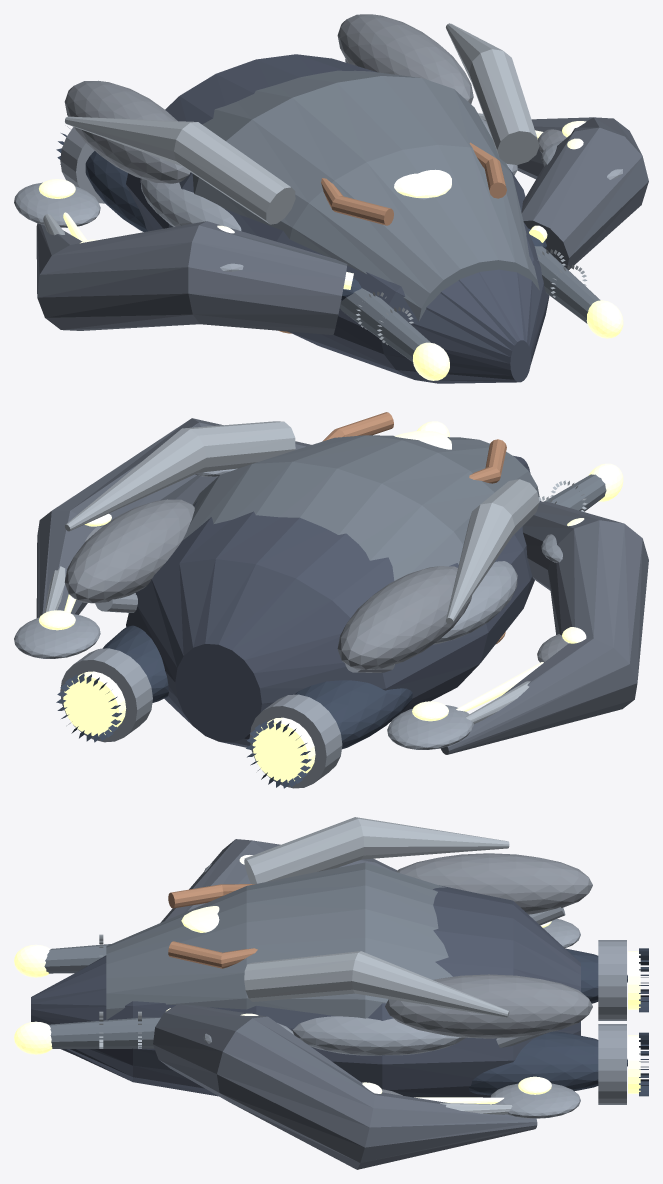
The model's file is npc_mordon.glb.
3 views of the same model, one above another, from view 1: azimuth 30°, elevation 25°; view 2: azimuth 150°, elevation 25°; view 3: azimuth 270°, elevation 25° (orthographic). The views are drawn at different scales.
Parts seen in each view (by area): view 1: upper_armor_scar, armored_scythe_-1, keel_pressure_hull, armored_scythe_1, kharon_battle_bridge_-1, kharon_reinforced_nacelle_1, kharon_battle_bridge_1, kharon_reinforced_nacelle_-1, long_plasma_cannon_-1, heavy_shield_pad_-1, scythe_plate_-1_2, engine_armor_-1 (+8 smaller); view 2: keel_pressure_hull, upper_armor_scar, armored_scythe_-1, kharon_reinforced_nacelle_1, kharon_reinforced_nacelle_-1, kharon_battle_bridge_1, armored_scythe_1, kharon_battle_bridge_-1, engine_armor_-1, exhaust_coil_1, exhaust_coil_-1, exhaust_blue_1 (+18 smaller); view 3: upper_armor_scar, armored_scythe_1, keel_pressure_hull, kharon_battle_bridge_1, kharon_reinforced_nacelle_1, kharon_battle_bridge_-1, kharon_reinforced_nacelle_-1, engine_armor_1, heavy_shield_pad_1, long_plasma_cannon_1, armored_scythe_-1, exhaust_coil_-1 (+14 smaller).
Part boxes in pixels (box(x1,y1,x2,y2)): upper_armor_scar: box(192, 70, 539, 321); armored_scythe_-1: box(36, 221, 347, 335); keel_pressure_hull: box(126, 54, 549, 383); armored_scythe_1: box(517, 117, 648, 270); kharon_battle_bridge_-1: box(65, 116, 295, 224); kharon_reinforced_nacelle_1: box(337, 14, 473, 103); kharon_battle_bridge_1: box(446, 23, 539, 164); kharon_reinforced_nacelle_-1: box(64, 80, 190, 183); long_plasma_cannon_-1: box(339, 288, 430, 362); heavy_shield_pad_-1: box(140, 178, 241, 230); scythe_plate_-1_2: box(14, 182, 100, 227); engine_armor_-1: box(85, 151, 148, 231); keel_pressure_hull: box(126, 455, 541, 747); upper_armor_scar: box(182, 435, 539, 580); armored_scythe_-1: box(441, 501, 648, 754); kharon_reinforced_nacelle_1: box(64, 499, 194, 603); kharon_reinforced_nacelle_-1: box(337, 566, 472, 669); kharon_battle_bridge_1: box(65, 421, 295, 531); armored_scythe_1: box(36, 418, 311, 617); kharon_battle_bridge_-1: box(446, 479, 539, 624); engine_armor_-1: box(294, 680, 412, 749); exhaust_coil_1: box(60, 648, 152, 742); exhaust_coil_-1: box(249, 694, 342, 788); exhaust_blue_1: box(63, 671, 126, 736); upper_armor_scar: box(106, 862, 452, 1019); armored_scythe_1: box(153, 1004, 537, 1169); keel_pressure_hull: box(31, 885, 580, 1097); kharon_battle_bridge_1: box(244, 951, 509, 1017); kharon_reinforced_nacelle_1: box(385, 974, 592, 1038); kharon_battle_bridge_-1: box(244, 817, 509, 883); kharon_reinforced_nacelle_-1: box(396, 853, 592, 914); engine_armor_1: box(469, 1031, 627, 1095); heavy_shield_pad_1: box(292, 1016, 465, 1055); long_plasma_cannon_1: box(49, 1017, 160, 1048); armored_scythe_-1: box(160, 839, 396, 922); exhaust_coil_-1: box(598, 940, 626, 1020).
Bounding box in the file's own units: 3.52 × 1.25 × 3.54.
